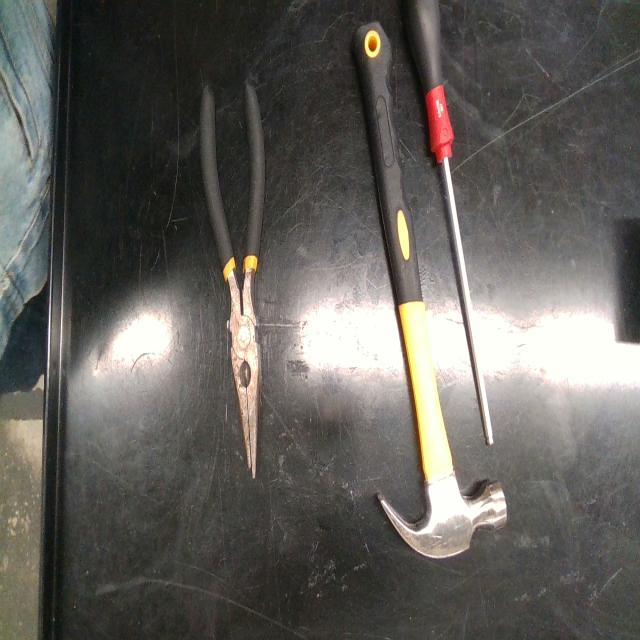Screwdriver: (402, 0, 492, 444)
